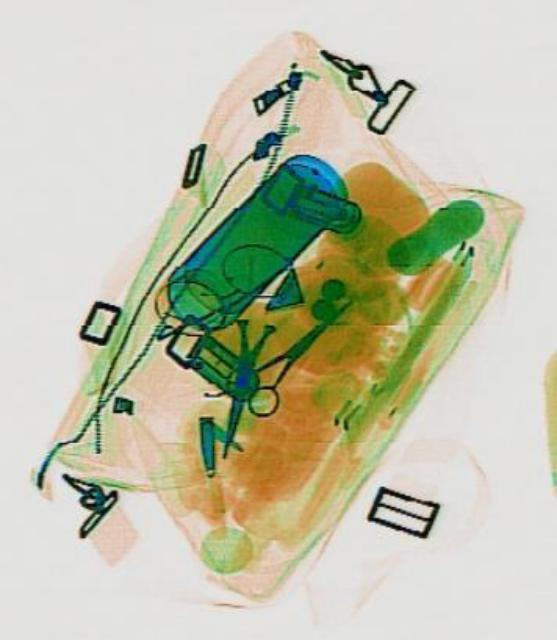Scissors: (219, 274, 370, 424)
